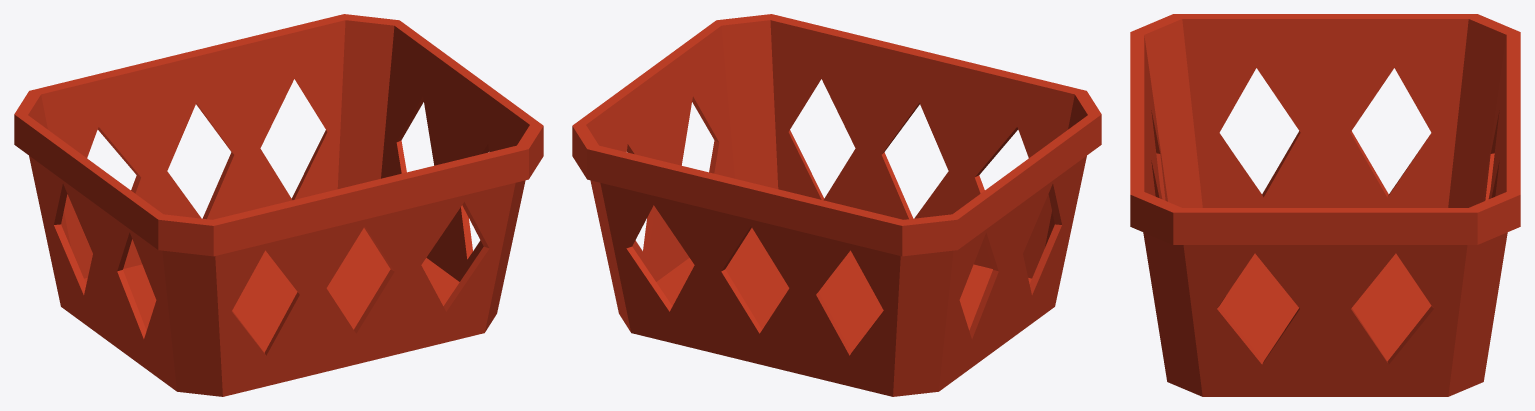
File: SM_Cook_Basket_Red_01.glb
3 renders of one model, left to right at view 1: azimuth 30°, elevation 25°; view 2: azimuth 150°, elevation 25°; view 3: azimuth 270°, elevation 25°, orthographic. The views are drawn at different scales.
Visible parts, largest first — view 1: SM_Cook_Basket_Red_01; view 2: SM_Cook_Basket_Red_01; view 3: SM_Cook_Basket_Red_01.
Part boxes in pixels (<box>): SM_Cook_Basket_Red_01: <box>14,14,543,396</box>; SM_Cook_Basket_Red_01: <box>572,14,1101,396</box>; SM_Cook_Basket_Red_01: <box>1130,14,1520,396</box>.
Bounding box in the file's own units: 0.318 × 0.15 × 0.2638.
1 material, 1 textured.
